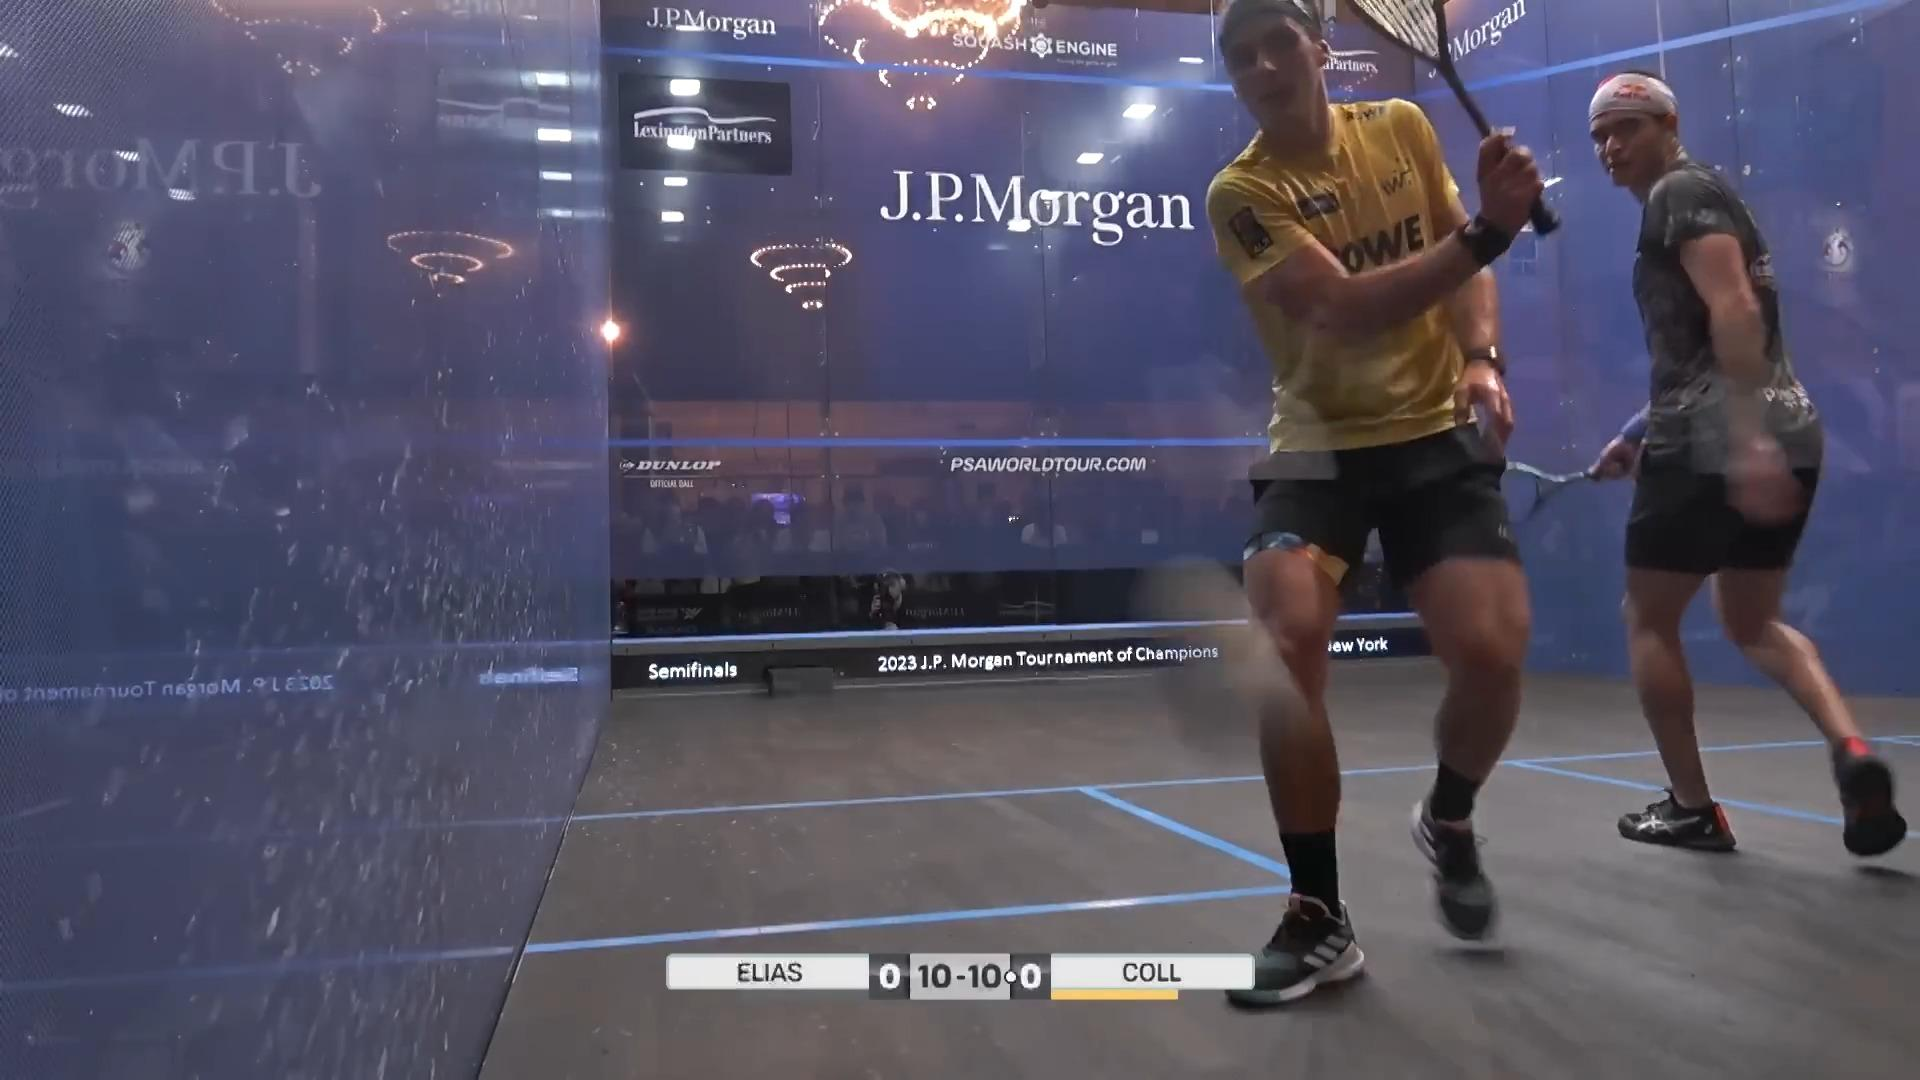Racket: (1345, 0, 1572, 244), (1491, 448, 1590, 521)
